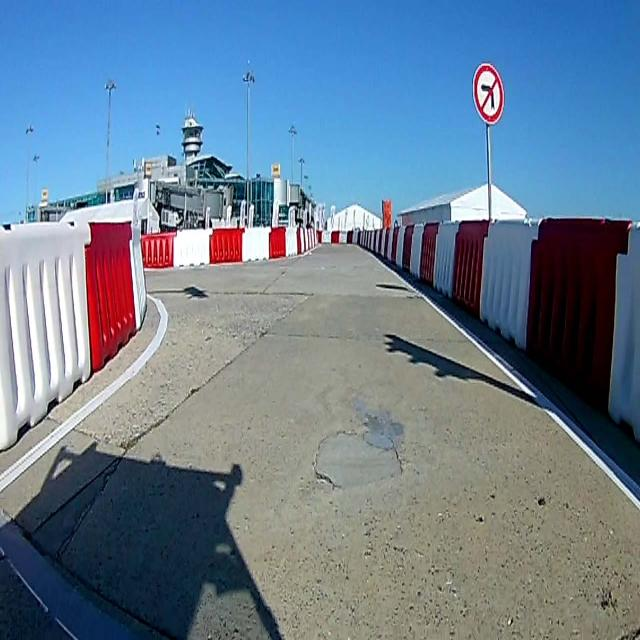soladonulmez: (474, 64, 505, 124)
